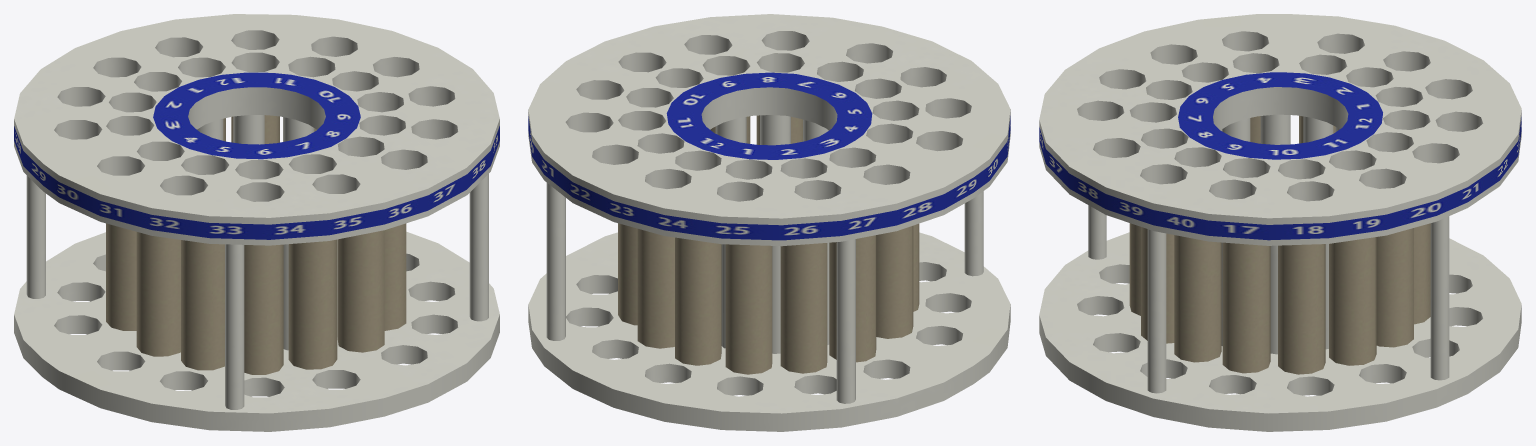
The model's file is SM_消解转子.fbx.
The picture shows the model from 3 angles, left to right: view 1: azimuth 30°, elevation 25°; view 2: azimuth 150°, elevation 25°; view 3: azimuth 270°, elevation 25°; orthographic projection.
Parts seen in each view (by area): view 1: SM_消解转子; view 2: SM_消解转子; view 3: SM_消解转子.
Part boxes in pixels (left/top/right/bottom): SM_消解转子: left=14, top=14, right=499, bottom=431; SM_消解转子: left=528, top=14, right=1010, bottom=431; SM_消解转子: left=1039, top=14, right=1521, bottom=431.
Bounding box in the file's own units: 0.1997 × 0.0974 × 0.1993.
